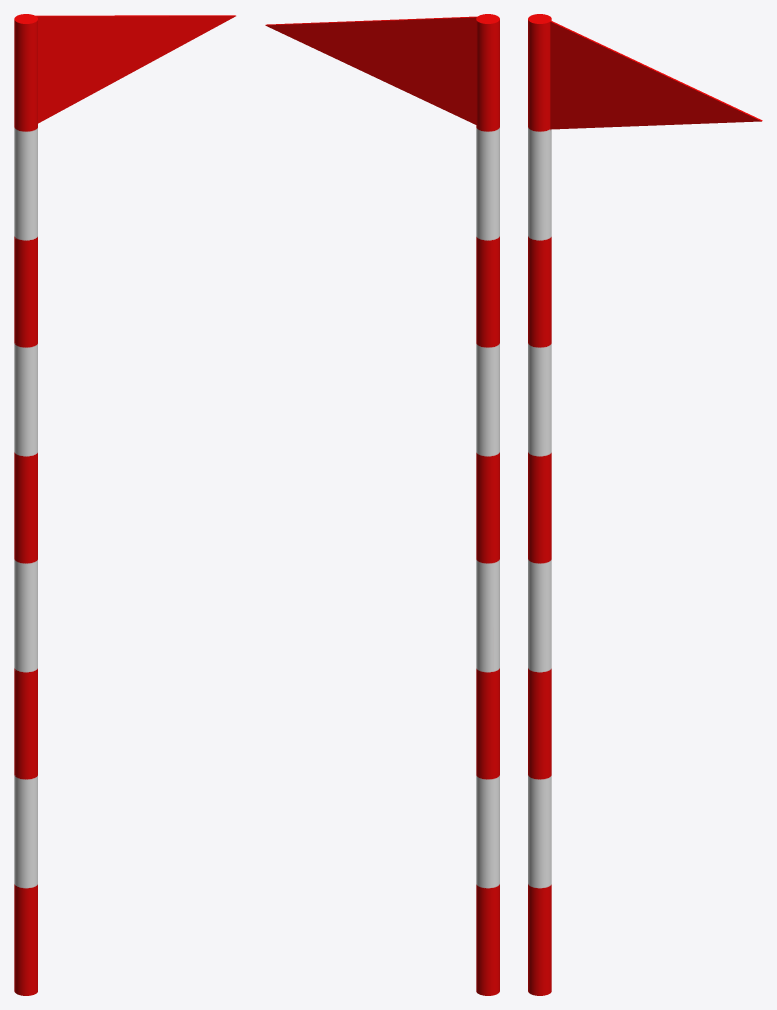
File: Flag.fbx
The picture shows the model from 3 angles, left to right: view 1: azimuth 30°, elevation 25°; view 2: azimuth 150°, elevation 25°; view 3: azimuth 330°, elevation 25°; orthographic projection.
Visible parts, largest first — view 1: Cylinder; view 2: Cylinder; view 3: Cylinder.
Part boxes in pixels (bbox=[...]): Cylinder: bbox=[14, 14, 235, 995]; Cylinder: bbox=[265, 14, 499, 995]; Cylinder: bbox=[528, 14, 762, 995].
Bounding box in the file's own units: 220 × 900 × 21.75.
